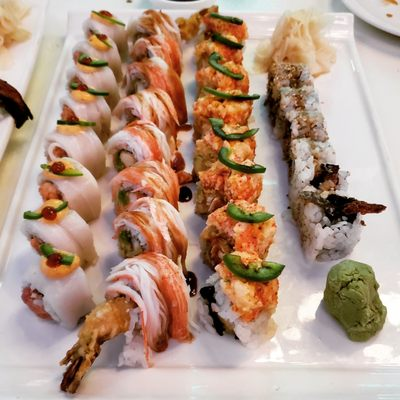sushi: (322, 259, 388, 342)
